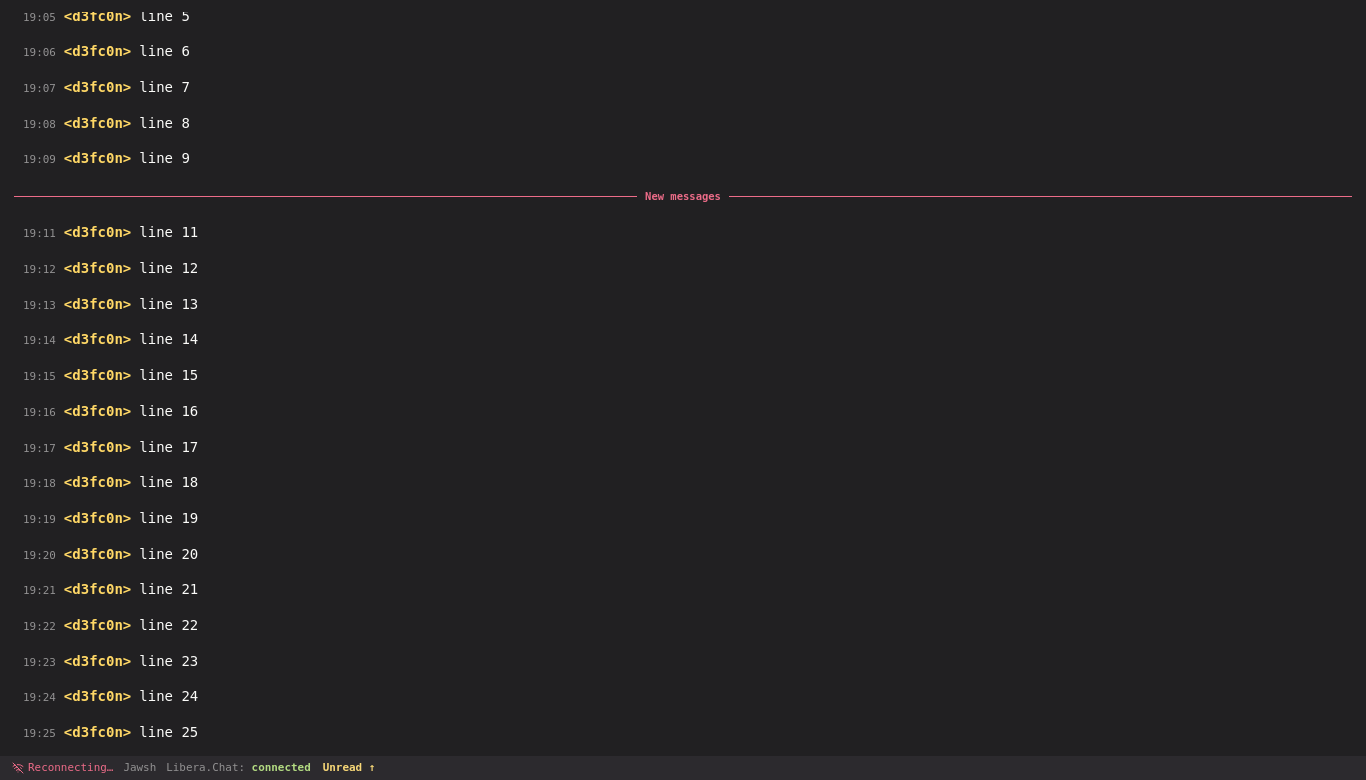
Test case: Jump to Unread (StatusBar + MessageList) › surfaces Unread ↑ in StatusBar and floating Jump to unread when off-screen, and scrolls to divider
Expected: the element with class "unread-divider" is shown, top-left (645, 190), bottom-right (721, 202)
Note: Clicking Unread ↑ scrolls divider into view and clears unread controls
Click the button with test id "statusbar-jump-unread" at (349, 768), box top-left (321, 760), bottom-right (377, 777)
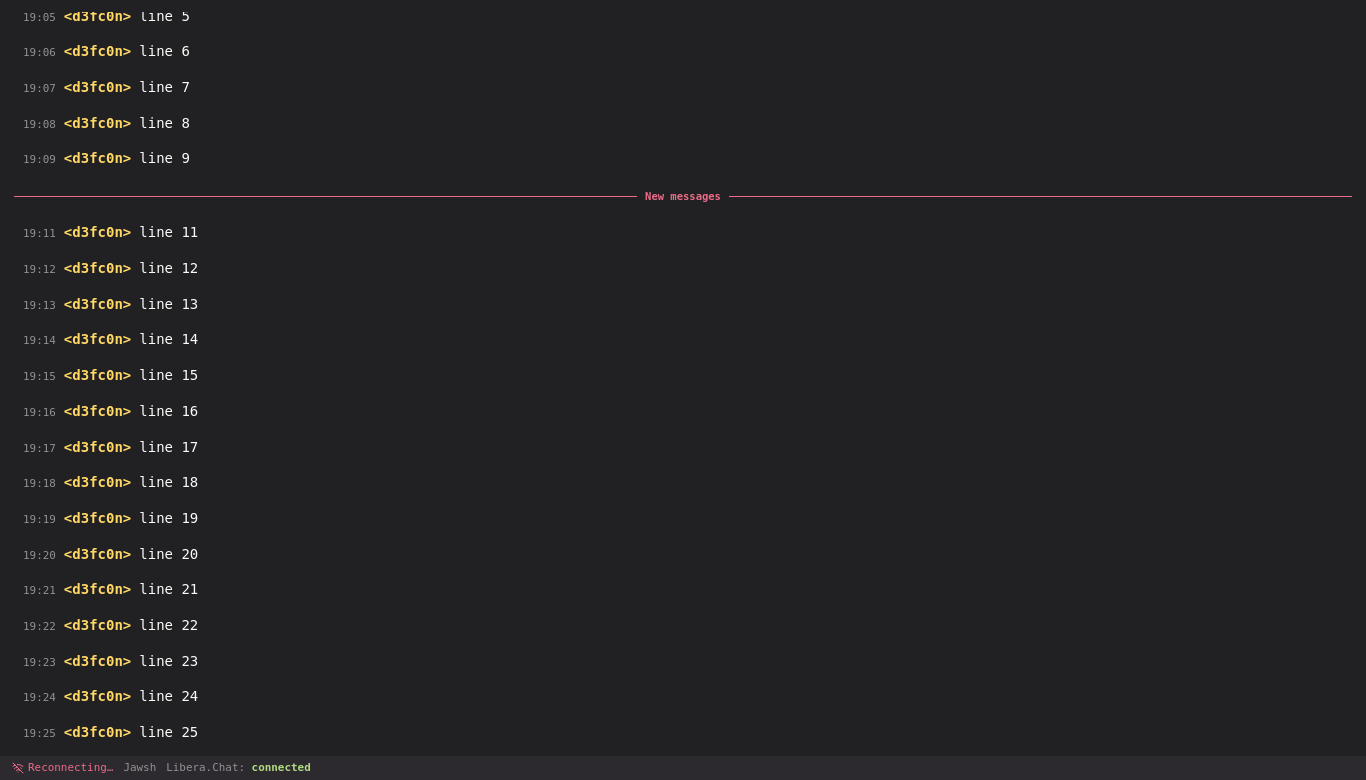
Expected: the button with test id "statusbar-jump-unread" is gone
